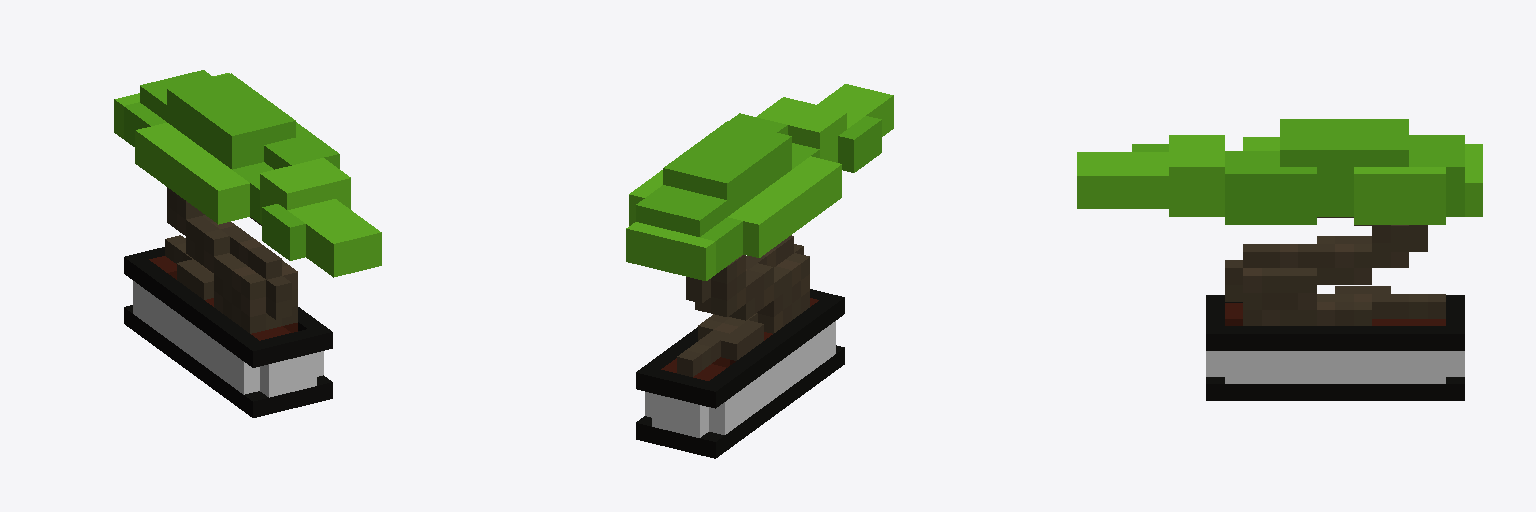
3 renders of one model, left to right at view 1: azimuth 30°, elevation 25°; view 2: azimuth 150°, elevation 25°; view 3: azimuth 270°, elevation 25°, orthographic.
Visible parts, largest first — view 1: object 1; view 2: object 1; view 3: object 1.
Boxes of the visible parts, x1=… form: object 1: x1=114, y1=70, x2=381, y2=417; object 1: x1=626, y1=84, x2=893, y2=458; object 1: x1=1077, y1=119, x2=1482, y2=400.
Bounding box in the file's own units: 0.7 × 1.5 × 2.2.
Materials: 1 (1 with a texture image).